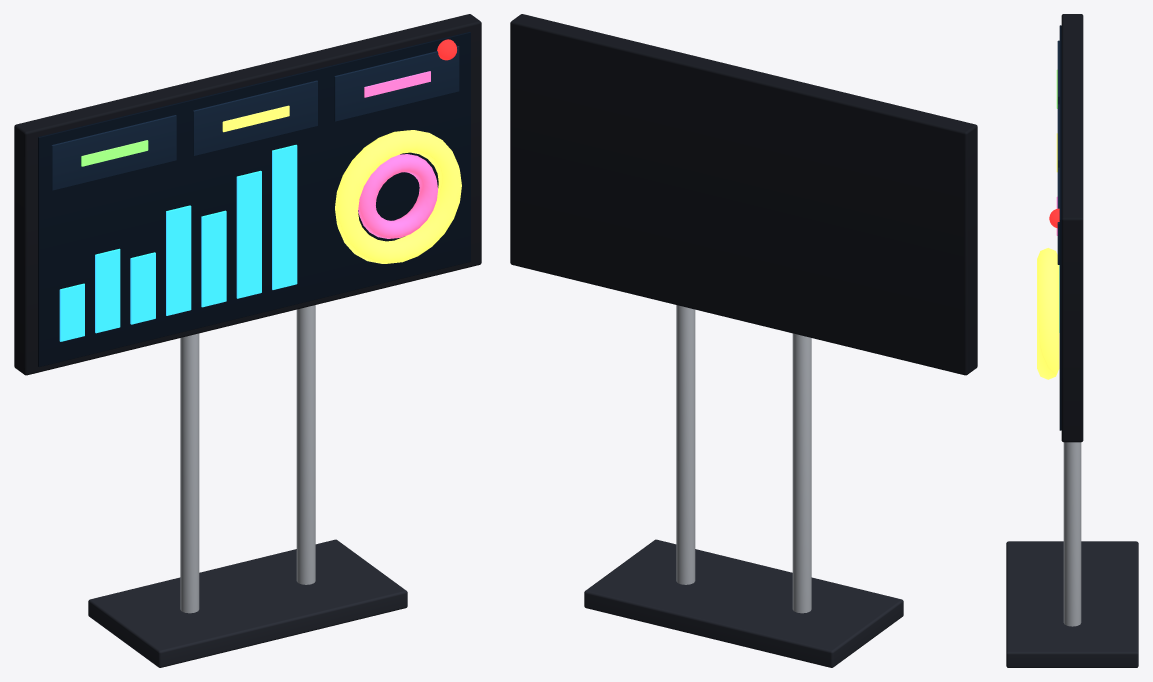
Rendered from dashboard-screen.glb.
3 views of the same model, side by side, from view 1: azimuth 30°, elevation 25°; view 2: azimuth 150°, elevation 25°; view 3: azimuth 270°, elevation 25° (orthographic). The views are drawn at different scales.
Parts seen in each view (by area): view 1: dashboard-screen-solid, dashboard-screen-glow (×4), dashboard-screen-metal; view 2: dashboard-screen-solid, dashboard-screen-metal; view 3: dashboard-screen-solid, dashboard-screen-metal, dashboard-screen-glow.
Boxes of the visible parts, x1,y1,x2,y2 form: dashboard-screen-solid: [14, 14, 481, 667]; dashboard-screen-glow (×4): [59, 71, 461, 341]; dashboard-screen-metal: [180, 305, 315, 613]; dashboard-screen-solid: [510, 14, 977, 667]; dashboard-screen-metal: [676, 305, 811, 613]; dashboard-screen-solid: [1006, 14, 1138, 667]; dashboard-screen-metal: [1063, 442, 1081, 626]; dashboard-screen-glow: [1037, 133, 1059, 379].
Size of the model in its own units: 0.8795 by 0.992 by 0.2395.
